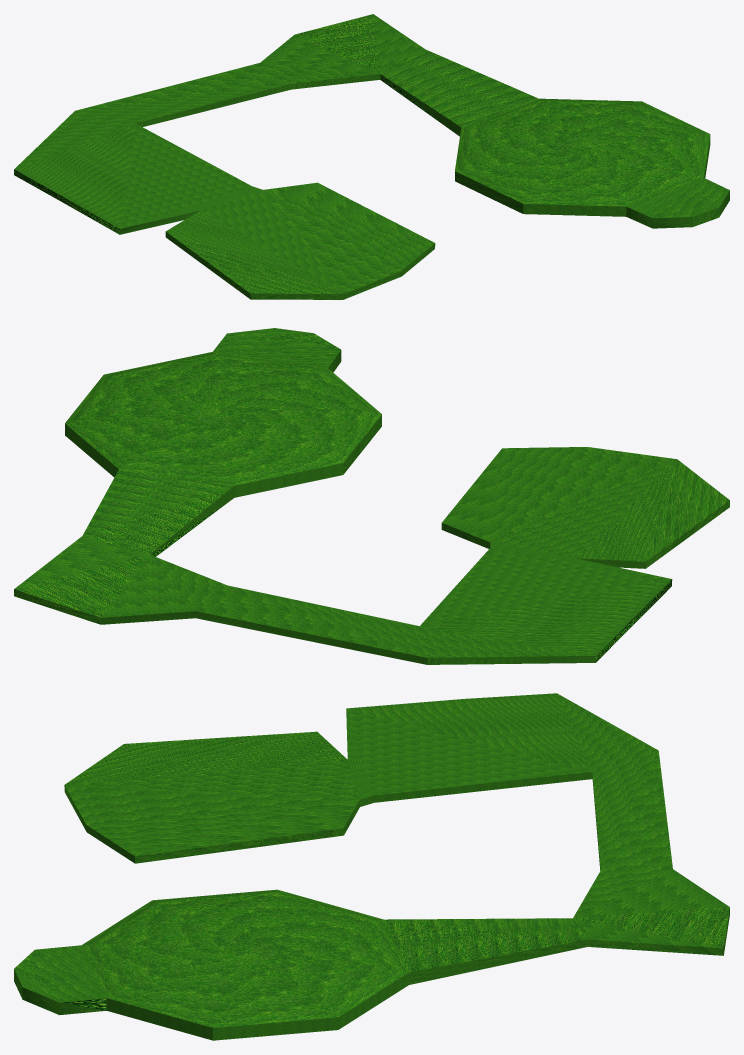
The model's file is plspls.fbx.
3 views of the same model, one above another, from view 1: azimuth 30°, elevation 25°; view 2: azimuth 150°, elevation 25°; view 3: azimuth 270°, elevation 25° (orthographic). The views are drawn at different scales.
Parts seen in each view (by area): view 1: pSphere1; view 2: pSphere1; view 3: pSphere1.
Boxes of the visible parts, x1,y1,x2,y2 form: pSphere1: (14, 14, 729, 299); pSphere1: (14, 328, 729, 664); pSphere1: (14, 693, 729, 1040).
Bounding box in the file's own units: 6838 × 288 × 6157.
